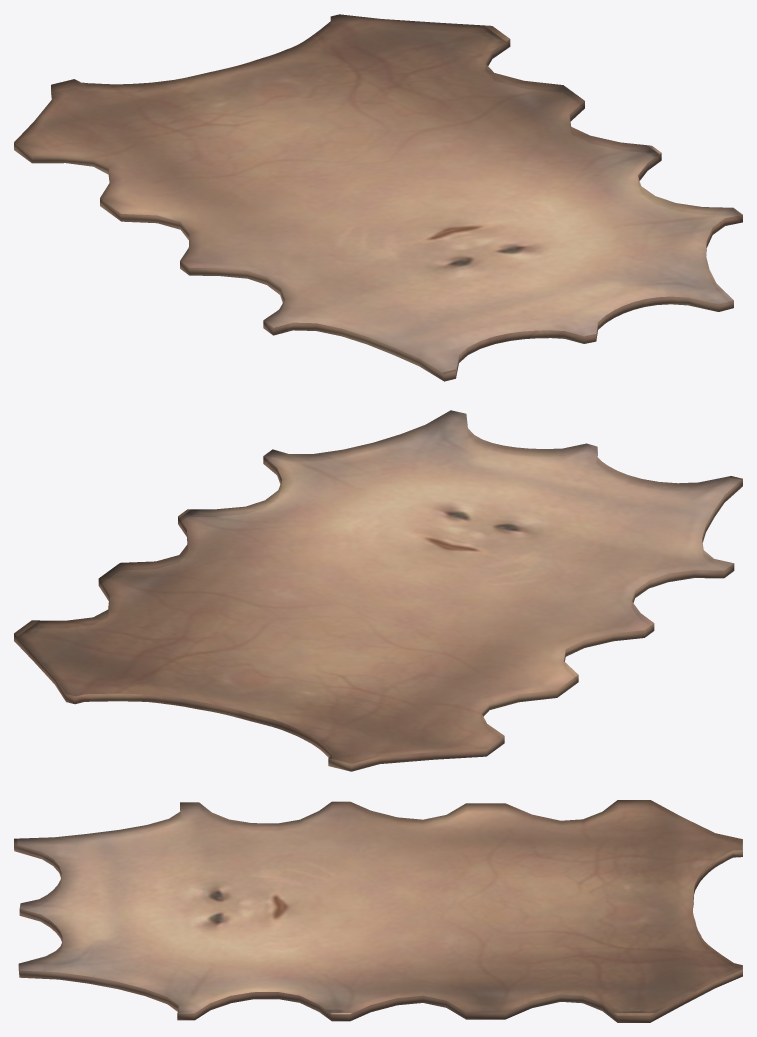
File: Cassandra.obj
The picture shows the model from 3 angles, top to bottom: view 1: azimuth 30°, elevation 25°; view 2: azimuth 150°, elevation 25°; view 3: azimuth 270°, elevation 25°; orthographic projection. The views are drawn at different scales.
Visible parts, largest first — view 1: Cassandra_rack_Cylinder; view 2: Cassandra_rack_Cylinder; view 3: Cassandra_rack_Cylinder.
Boxes of the visible parts, x1,y1,x2,y2 form: Cassandra_rack_Cylinder: [14, 14, 742, 381]; Cassandra_rack_Cylinder: [14, 410, 742, 771]; Cassandra_rack_Cylinder: [14, 800, 742, 1022].
Size of the model in its own units: 9.31 by 0.1448 by 13.31.
Materials: 1 (1 with a texture image).
